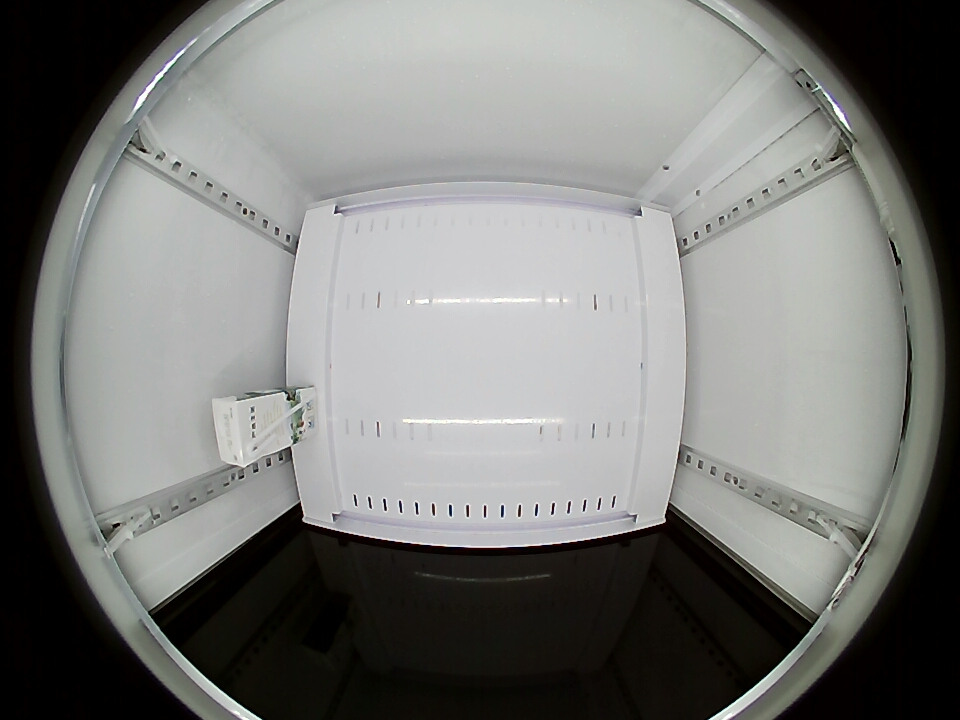jindian: (212, 392, 264, 467)
